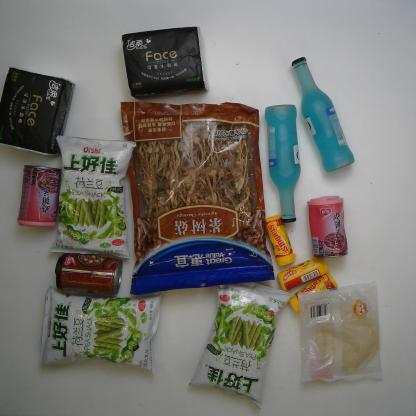Alcohol: (292, 57, 355, 173), (264, 104, 300, 222)
Candy: (290, 270, 338, 314), (277, 255, 327, 292), (264, 214, 296, 266)
Canned Food: (55, 252, 123, 295), (17, 164, 62, 228), (308, 195, 348, 259)
Dessert: (298, 283, 384, 384)
Dried Food: (120, 102, 274, 296)
Puffed Food: (187, 271, 294, 409), (49, 134, 137, 258), (40, 286, 162, 374)
Tissue: (0, 67, 74, 157), (122, 25, 210, 100)
